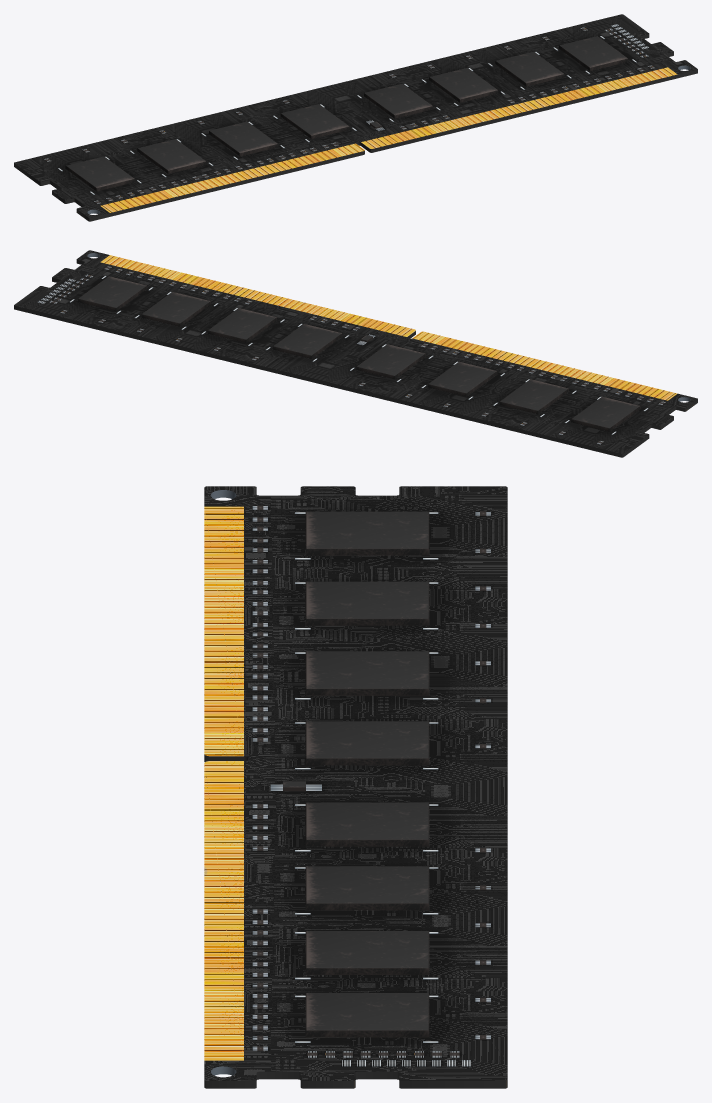
Rendered from random_access_memory_ram_ddr3_black_2.glb.
3 renders of one model, top to bottom at view 1: azimuth 30°, elevation 25°; view 2: azimuth 150°, elevation 25°; view 3: azimuth 270°, elevation 25°, orthographic. The views are drawn at different scales.
Parts seen in each view (by area): view 1: MEmoryQ_MEm002_0_0; view 2: MEmoryQ_MEm002_0_0; view 3: MEmoryQ_MEm002_0_0.
Boxes of the visible parts, box(x1,y1,x2,y2) form: MEmoryQ_MEm002_0_0: box(14, 14, 697, 221); MEmoryQ_MEm002_0_0: box(14, 250, 697, 457); MEmoryQ_MEm002_0_0: box(204, 486, 507, 1088).
Bounding box in the file's own units: 1300 × 15.24 × 280.
Materials: 1 (1 with a texture image).
